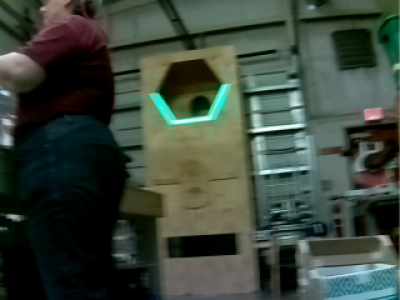target: (149, 86, 231, 125)
